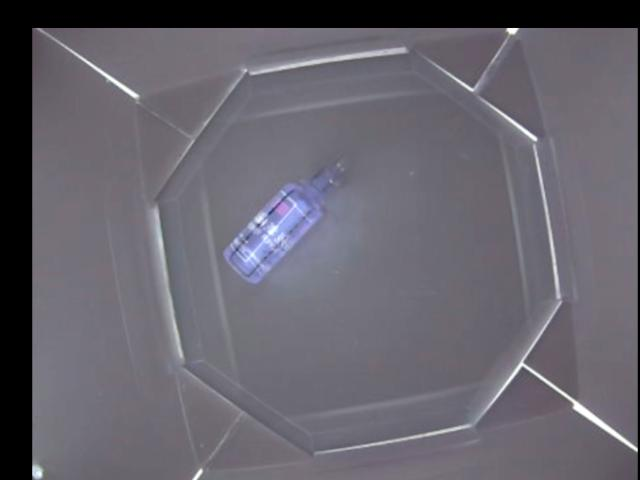Bottle: (219, 153, 349, 284)
